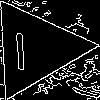I: (10, 23, 29, 70)
